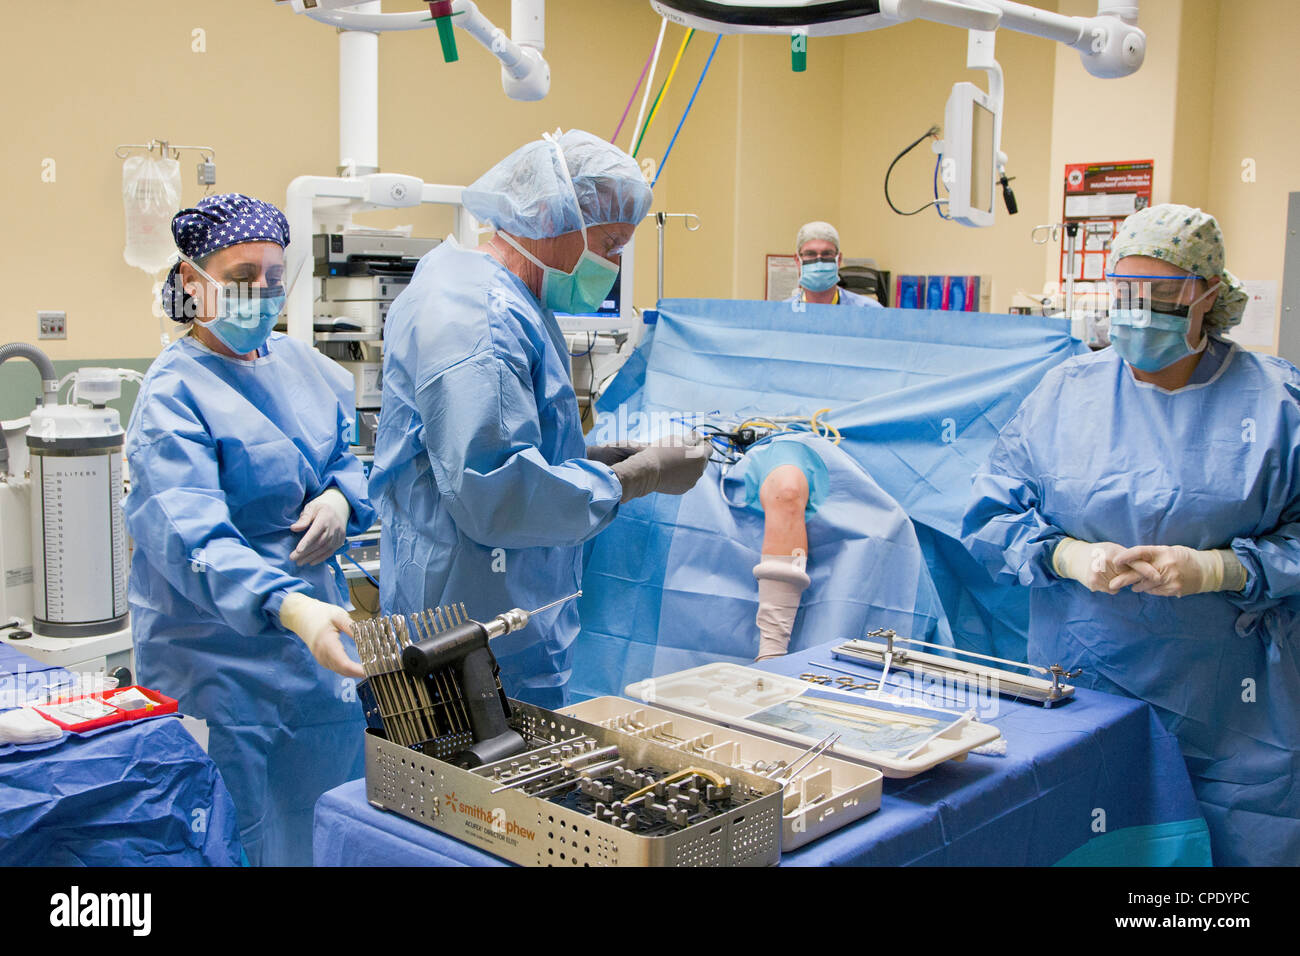iv_pole: (114, 137, 220, 324), (1029, 216, 1116, 325), (618, 206, 703, 298)
operating_bed: (582, 298, 1075, 657)
patient: (708, 422, 874, 658)
staff: (380, 133, 712, 864), (968, 204, 1300, 866), (125, 193, 375, 868), (771, 220, 885, 313)
surgical_instrument: (348, 588, 1074, 865)
surgical_light: (646, 1, 884, 46)
utility_cart: (309, 636, 1146, 866)
